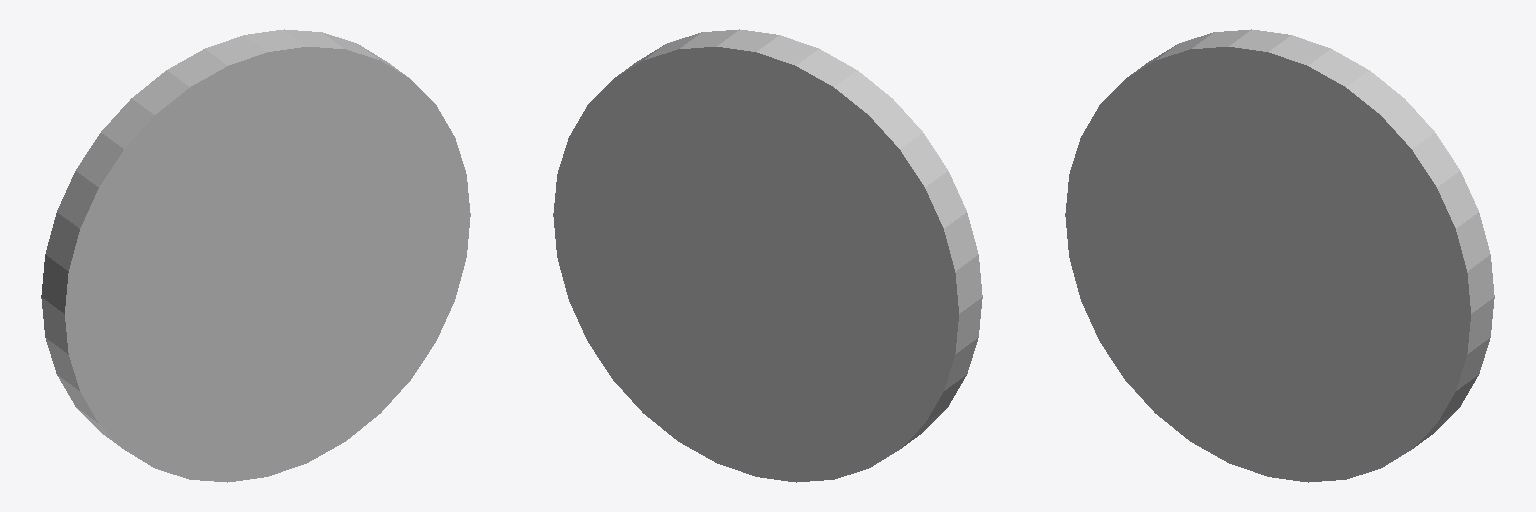
Rendered from Coin.obj.
The picture shows the model from 3 angles: view 1: azimuth 30°, elevation 25°; view 2: azimuth 150°, elevation 25°; view 3: azimuth 330°, elevation 25°; orthographic projection.
Visible parts, largest first — view 1: Circle; view 2: Circle; view 3: Circle.
Boxes of the visible parts, box(x1,y1,x2,y2) form: Circle: box(41, 29, 470, 482); Circle: box(553, 29, 982, 482); Circle: box(1065, 29, 1494, 482).
Bounding box in the file's own units: 2 × 2 × 0.2.